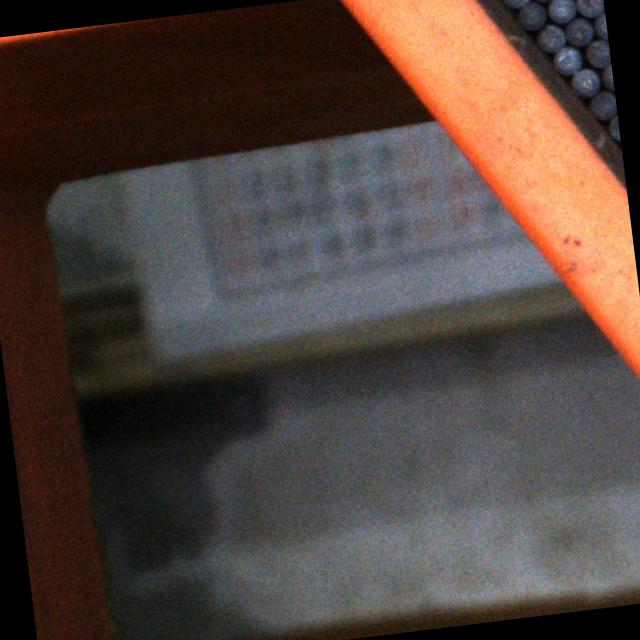tool: (588, 88, 618, 120), (571, 66, 601, 98), (536, 23, 566, 54), (552, 44, 582, 74), (563, 18, 593, 48), (516, 1, 546, 30), (584, 38, 611, 68), (545, 0, 575, 23), (575, 0, 605, 18), (592, 10, 608, 40), (600, 62, 614, 92), (607, 114, 620, 140), (501, 0, 530, 9)
